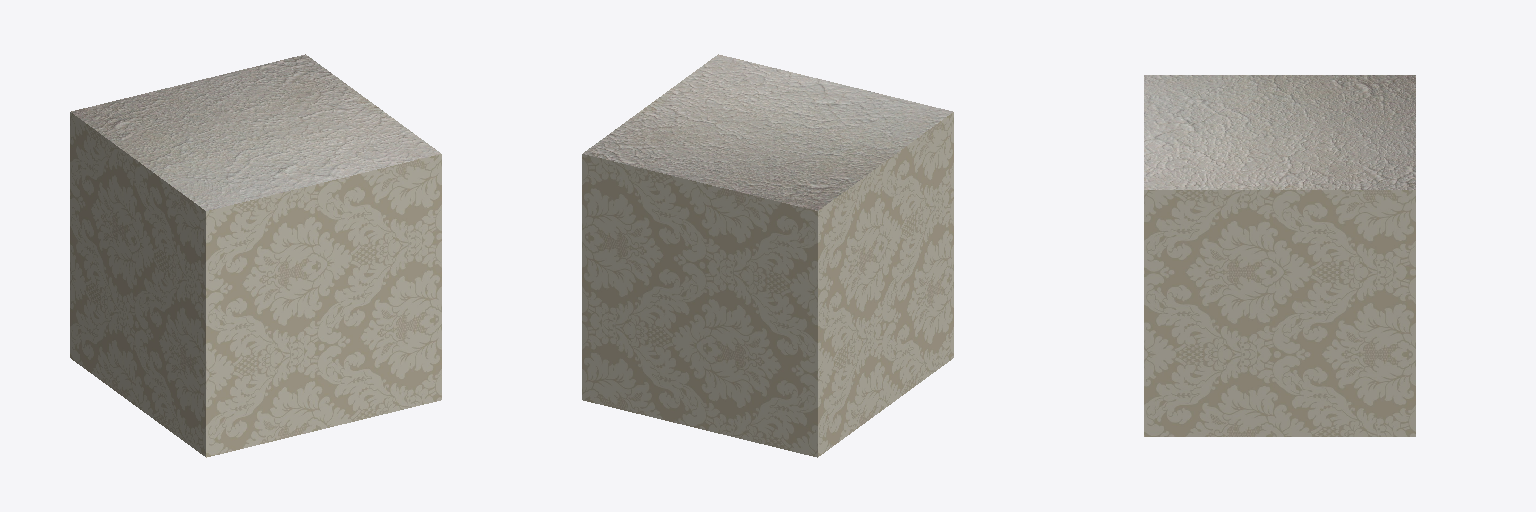
The picture shows the model from 3 angles: view 1: azimuth 30°, elevation 25°; view 2: azimuth 150°, elevation 25°; view 3: azimuth 270°, elevation 25°; orthographic projection.
Parts seen in each view (by area): view 1: Cube; view 2: Cube; view 3: Cube.
Part boxes in pixels (left/top/right/bottom): Cube: left=70, top=54, right=441, bottom=457; Cube: left=582, top=54, right=953, bottom=457; Cube: left=1144, top=75, right=1415, bottom=436.
Bounding box in the file's own units: 2 × 2 × 2.
3 materials, 3 textured.